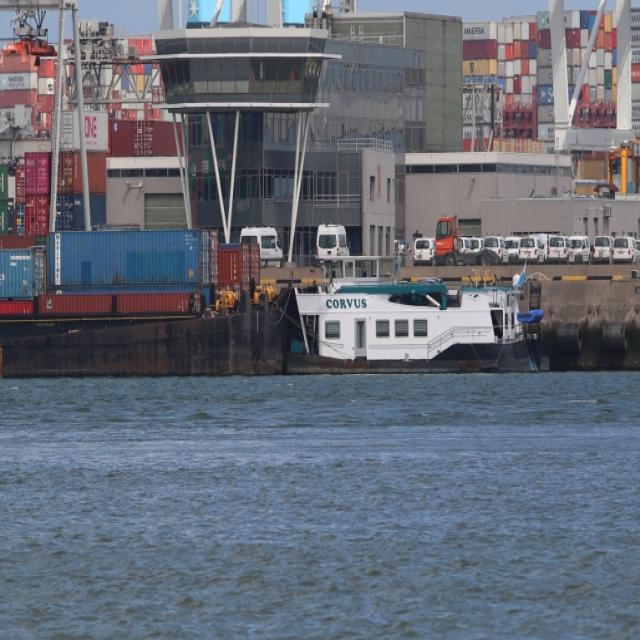tugboat: (239, 251, 559, 386)
